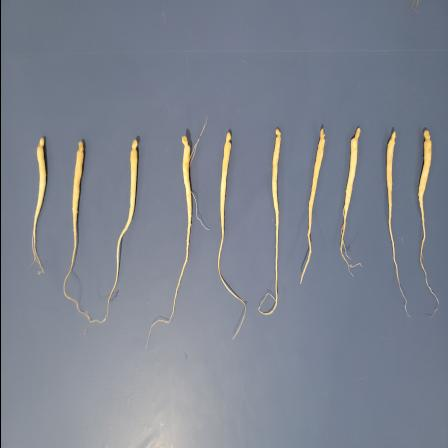Ginseng: (146, 132, 202, 345), (95, 137, 140, 322), (59, 135, 93, 324), (216, 126, 246, 340), (382, 127, 411, 322), (296, 126, 328, 284), (414, 124, 440, 316), (258, 124, 282, 314), (338, 124, 365, 278), (30, 136, 48, 278)
head: (349, 127, 360, 142), (180, 134, 190, 150), (386, 130, 396, 144), (422, 130, 431, 145), (76, 140, 84, 156), (130, 139, 138, 154), (36, 137, 44, 151), (224, 130, 231, 146), (318, 127, 324, 143), (274, 128, 280, 142)
